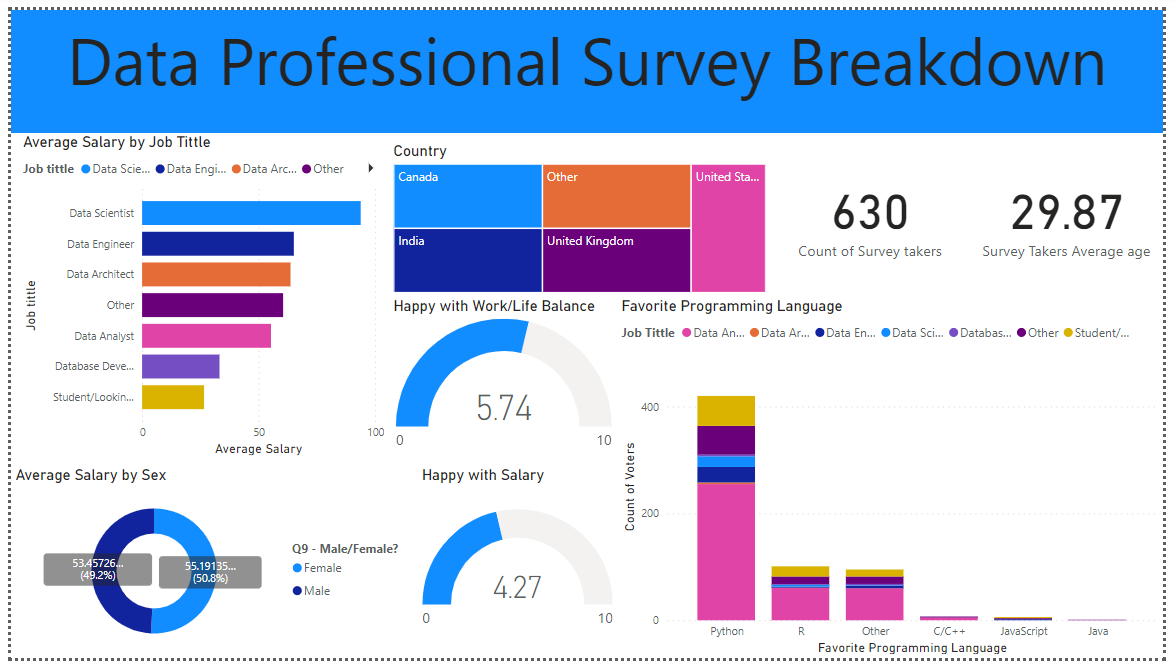

This screenshot's page, from the dashboard's own definition file:
{"tool":"powerbi","page":{"name":"Page 1","canvas":[1280,720],"ordinal":0},"visuals":[{"type":"textbox","box":[0,0,1280,136.7],"z":0},{"type":"card","fields":{"Values":["Count(Data Professional Survey.Unique ID)"]},"box":[842.6,135.9,221.8,182.3],"z":1000},{"type":"card","fields":{"Values":["Avg(Data Professional Survey.Q10 - Current Age)"]},"box":[1064.5,135.9,215,182.3],"z":2000},{"type":"barChart","title":"Average Salary by Job Tittle","fields":{"Category":["Data Professional Survey.Q1 - Which Title Best Fits your Current Role?.1"],"Series":["Data Professional Survey.Q1 - Which Title Best Fits your Current Role?.1"],"Y":["Avg(Data Professional Survey.Average Salary)"]},"box":[8.6,135.9,411,362.9],"z":3000},{"type":"columnChart","title":"Favorite Programming Language","fields":{"Category":["Data Professional Survey.Q5 - Favorite Programming Language.1"],"Y":["CountNonNull(Data Professional Survey.Unique ID)"],"Series":["Data Professional Survey.Q1 - Which Title Best Fits your Current Role?.1"]},"box":[674.1,318.1,605.3,402.4],"z":4000},{"type":"treemap","title":"Country","fields":{"Group":["Data Professional Survey.Q11 - Which Country do you live in?.1"],"Values":["Count(Data Professional Survey.Q11 - Which Country do you live in?.1)"]},"box":[419.6,146.2,423,172],"z":5000},{"type":"gauge","title":"Happy with Work/Life Balance","fields":{"Y":["Avg(Data Professional Survey.Q6 - How Happy are you in your Current Position with the following? (Work/Life Balance))"],"MinValue":["Min(Data Professional Survey.Q6 - How Happy are you in your Current Position with the following? (Work/Life Balance))"],"MaxValue":["Max(Data Professional Survey.Q6 - How Happy are you in your Current Position with the following? (Work/Life Balance))"]},"box":[419.6,318.1,254.5,180.6],"z":6000},{"type":"gauge","title":"Happy with Salary","fields":{"Y":["Avg(Data Professional Survey.Q6 - How Happy are you in your Current Position with the following? (Salary))"],"MinValue":["Min(Data Professional Survey.Q6 - How Happy are you in your Current Position with the following? (Salary))"],"MaxValue":["Max(Data Professional Survey.Q6 - How Happy are you in your Current Position with the following? (Salary))"]},"box":[452.3,507.3,221.8,213.2],"z":7000},{"type":"donutChart","title":"Average Salary by Sex","fields":{"Y":["Avg(Data Professional Survey.Average Salary)"],"Category":["Data Professional Survey.Q9 - Male/Female?"]},"box":[0,507.3,452.3,213.2],"z":8000}]}

Visuals, with their boxes in screenshot pixels (x1, y1, x2, y2), scaled from the page's 1280x720 canvas onto the 1174x667 screenshot:
textbox: locate(0, 0, 1173, 127)
card - Count(Data Professional Survey.Unique ID): locate(773, 126, 976, 295)
card - Avg(Data Professional Survey.Q10 - Current Age): locate(976, 126, 1173, 295)
"Average Salary by Job Tittle" barChart: locate(8, 126, 385, 462)
"Favorite Programming Language" columnChart: locate(618, 295, 1173, 666)
"Country" treemap: locate(385, 135, 773, 295)
"Happy with Work/Life Balance" gauge: locate(385, 295, 618, 462)
"Happy with Salary" gauge: locate(415, 470, 618, 666)
"Average Salary by Sex" donutChart: locate(0, 470, 415, 666)
